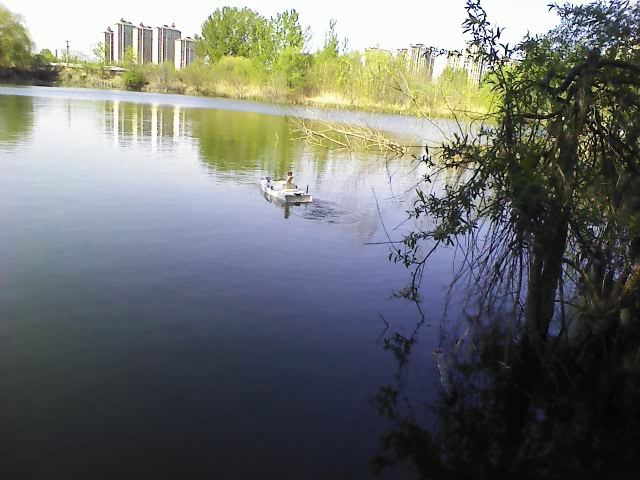boat: (259, 169, 315, 208)
